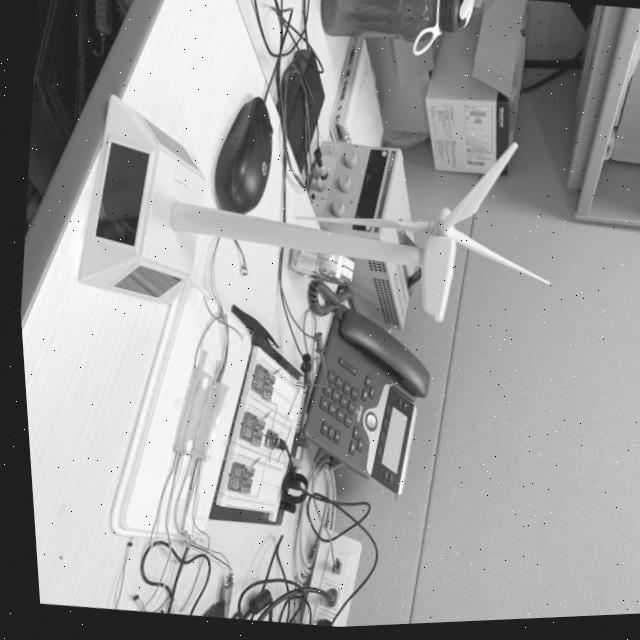solid-blade: (436, 147, 514, 233), (447, 234, 545, 289), (292, 220, 426, 236)
